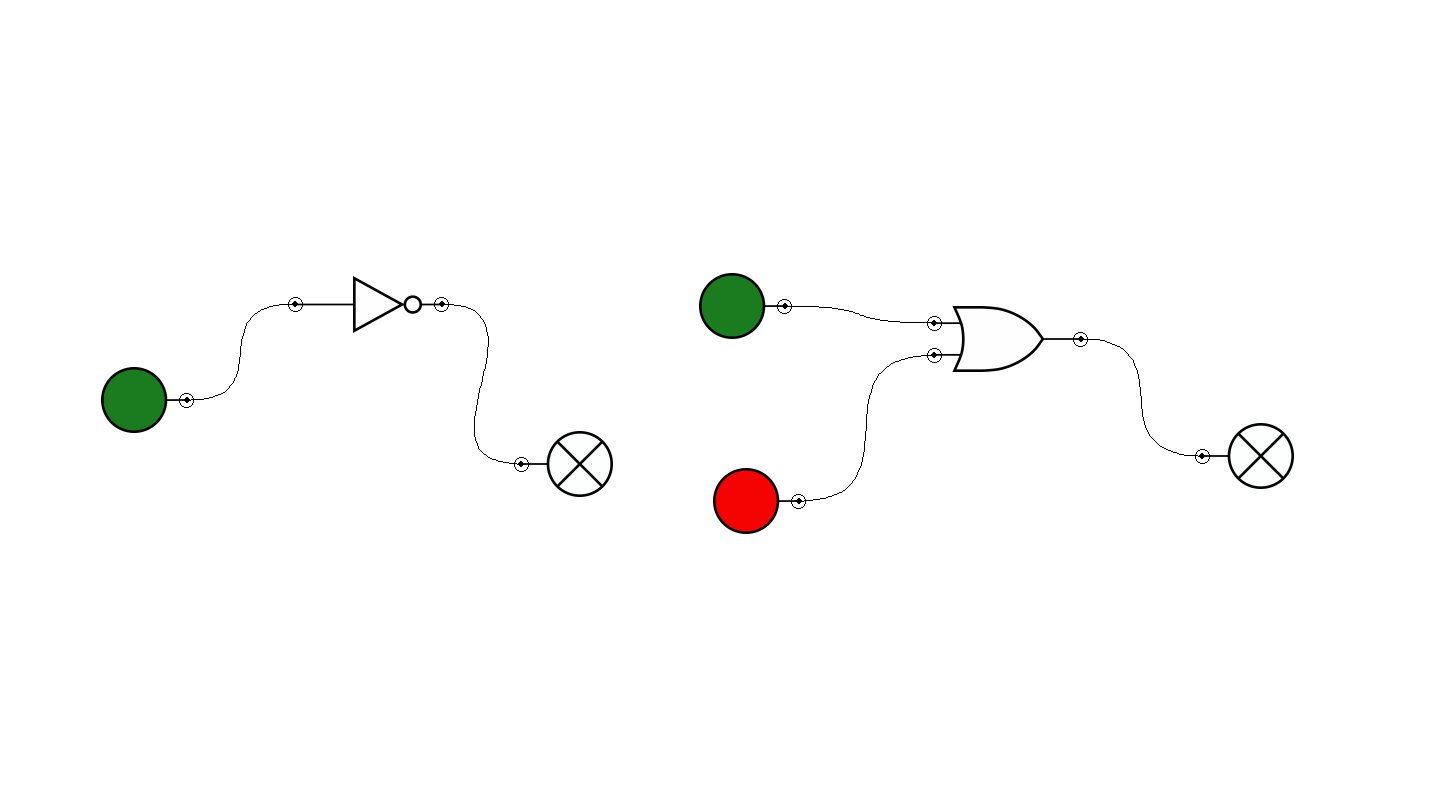bulb: (514, 431, 613, 497), (1195, 423, 1294, 489)
not: (288, 276, 449, 333)
or: (927, 306, 1088, 372)
switch_False: (713, 468, 806, 534)
switch_True: (101, 367, 194, 433), (699, 273, 792, 339)
